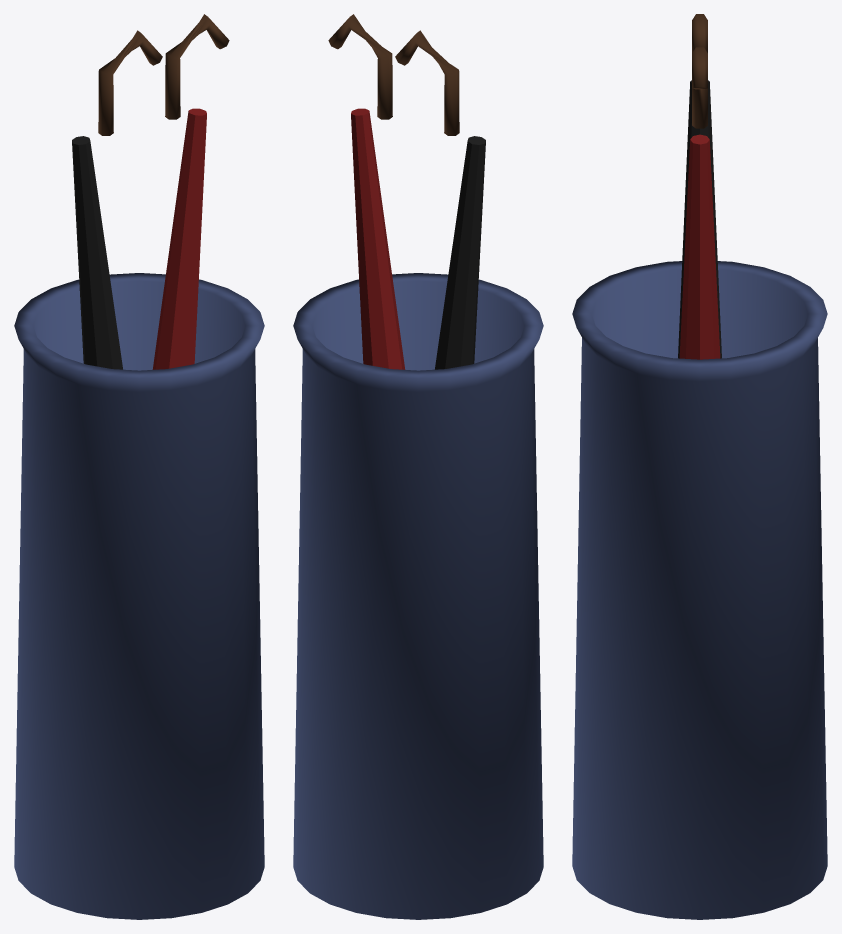
File: umbrella_stand.glb
3 renders of one model, left to right at view 1: azimuth 30°, elevation 25°; view 2: azimuth 150°, elevation 25°; view 3: azimuth 270°, elevation 25°, orthographic.
Parts seen in each view (by area): view 1: umbrella_stand; view 2: umbrella_stand; view 3: umbrella_stand.
Part boxes in pixels (<box>): umbrella_stand: <box>14,14,264,919</box>; umbrella_stand: <box>293,14,543,919</box>; umbrella_stand: <box>572,14,827,919</box>.
Bounding box in the file's own units: 0.26 × 0.9569 × 0.26.
